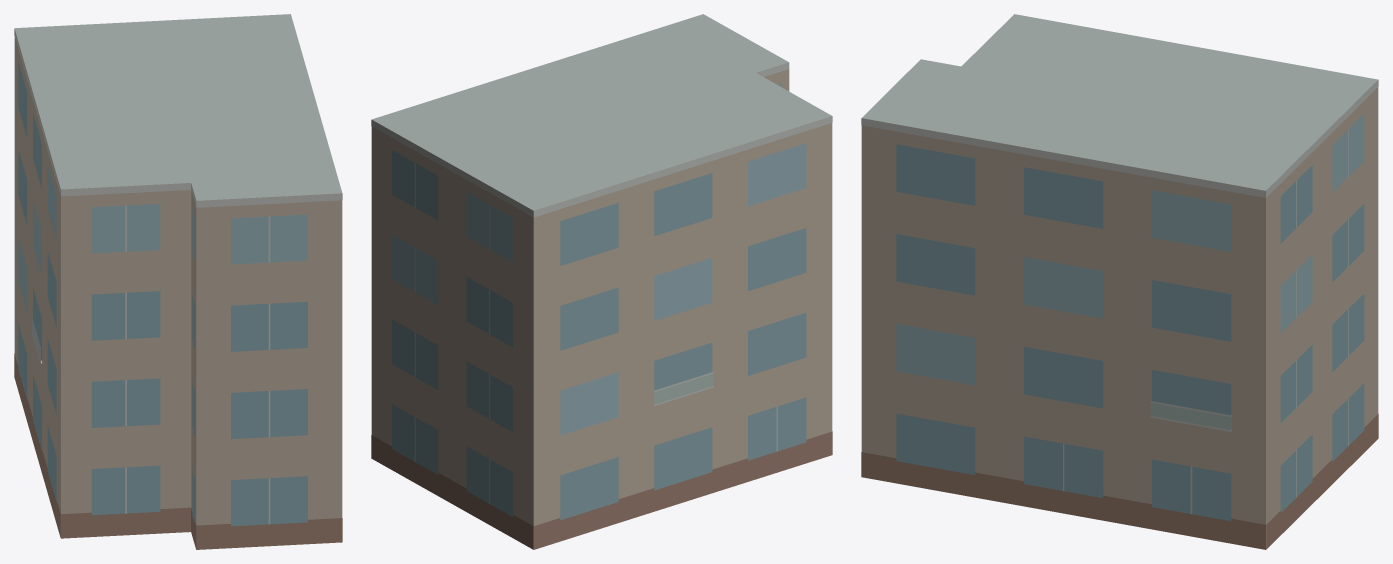
Rendered from residential-90aeed74-b6a2-4352-9595-ec91ac210b0a.glb.
The picture shows the model from 3 angles, left to right: view 1: azimuth 30°, elevation 25°; view 2: azimuth 150°, elevation 25°; view 3: azimuth 270°, elevation 25°; orthographic projection. The views are drawn at different scales.
Parts seen in each view (by area): view 1: residential-90aeed74-b6a2-4352-9595-ec91ac210b0a.tmp; view 2: residential-90aeed74-b6a2-4352-9595-ec91ac210b0a.tmp; view 3: residential-90aeed74-b6a2-4352-9595-ec91ac210b0a.tmp.
Boxes of the visible parts, x1,y1,x2,y2 form: residential-90aeed74-b6a2-4352-9595-ec91ac210b0a.tmp: (14,14,342,549); residential-90aeed74-b6a2-4352-9595-ec91ac210b0a.tmp: (371,14,832,549); residential-90aeed74-b6a2-4352-9595-ec91ac210b0a.tmp: (861,14,1378,549).
Bounding box in the file's own units: 12.9 × 12.2 × 15.93.
